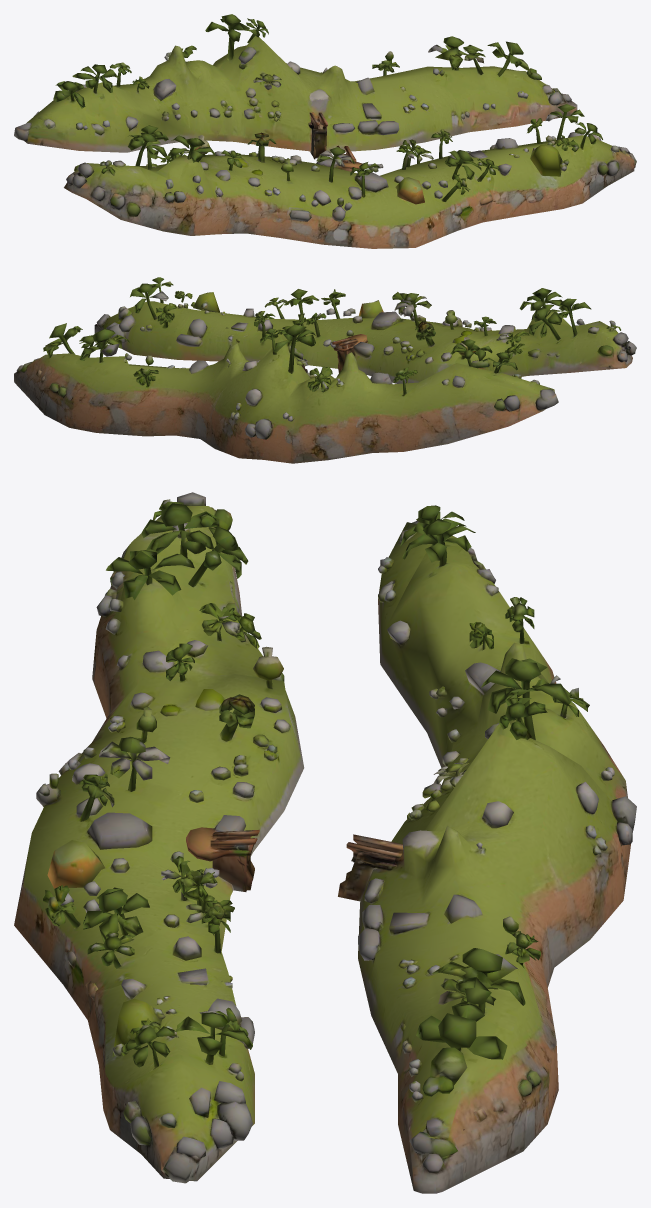
The model's file is VAL_Capital_Environment_River_Straight.glb.
The picture shows the model from 3 angles, top to bottom: view 1: azimuth 30°, elevation 25°; view 2: azimuth 150°, elevation 25°; view 3: azimuth 270°, elevation 25°; orthographic projection. The views are drawn at different scales.
Parts seen in each view (by area): view 1: tripo_node_12a5f7f3-5507-4507-a076-78cbc80b8733; view 2: tripo_node_12a5f7f3-5507-4507-a076-78cbc80b8733; view 3: tripo_node_12a5f7f3-5507-4507-a076-78cbc80b8733.
Boxes of the visible parts, x1=… form: tripo_node_12a5f7f3-5507-4507-a076-78cbc80b8733: x1=14, y1=14, x2=636, y2=248; tripo_node_12a5f7f3-5507-4507-a076-78cbc80b8733: x1=14, y1=277, x2=636, y2=463; tripo_node_12a5f7f3-5507-4507-a076-78cbc80b8733: x1=14, y1=492, x2=636, y2=1193.
Size of the model in its own units: 0.998 by 0.2715 by 0.5449.
Materials: 1 (1 with a texture image).
